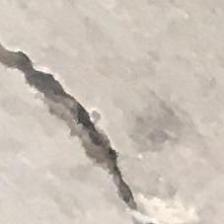Crack: (0, 40, 150, 224)
